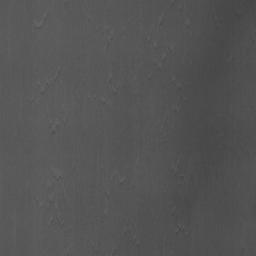Silk spot: (144, 34, 176, 72), (171, 213, 192, 240), (39, 71, 61, 96), (124, 220, 140, 247), (48, 120, 65, 135), (48, 216, 64, 228)
